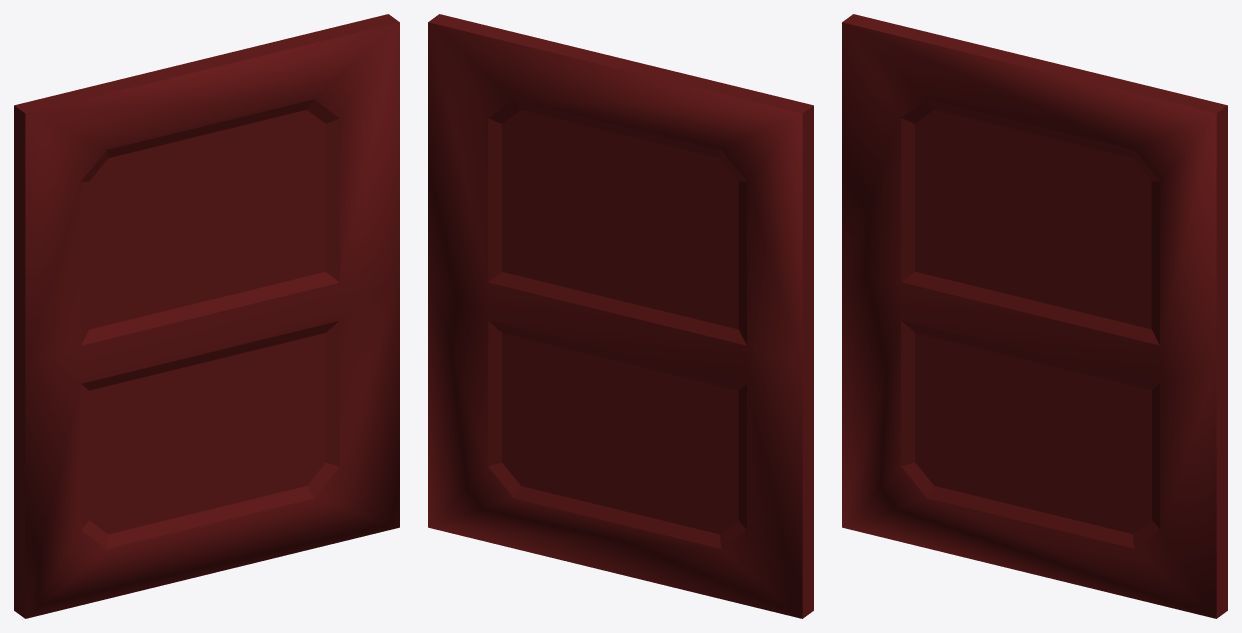
Rendered from DoorMetal.fbx.
3 views of the same model, side by side, from view 1: azimuth 30°, elevation 25°; view 2: azimuth 150°, elevation 25°; view 3: azimuth 330°, elevation 25° (orthographic).
Parts seen in each view (by area): view 1: DoorMetal; view 2: DoorMetal; view 3: DoorMetal.
Part boxes in pixels (x1,y1,x2,y2): DoorMetal: (14, 14, 399, 618); DoorMetal: (428, 14, 813, 618); DoorMetal: (842, 14, 1227, 618).
Size of the model in its own units: 171 by 220 by 8.94.
